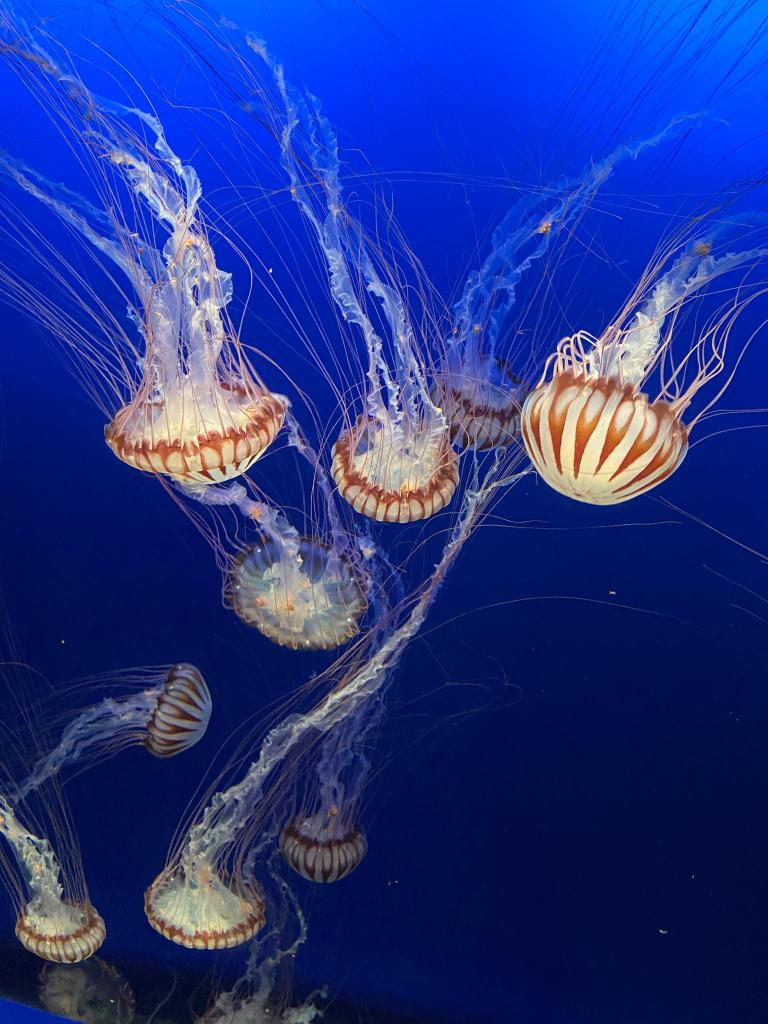Jellyfish: (238, 34, 766, 522), (143, 487, 506, 946), (5, 42, 288, 484), (183, 432, 366, 649), (0, 743, 112, 961), (31, 665, 212, 787)
